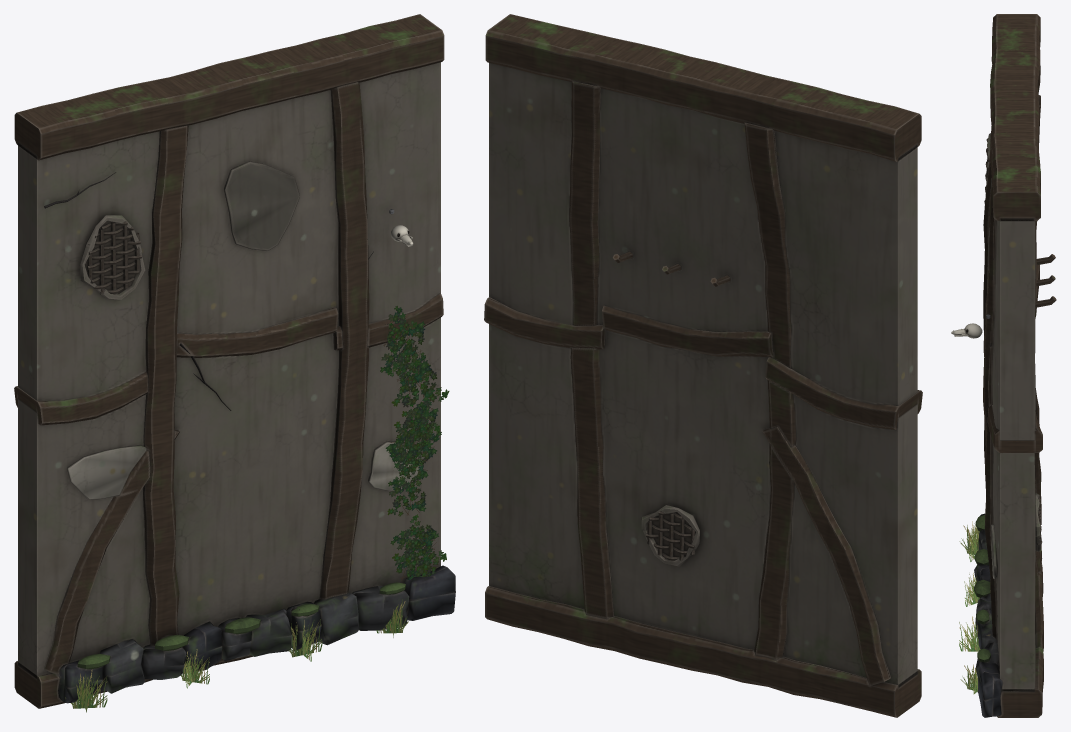
The model's file is HutWall.fbx.
The picture shows the model from 3 angles, left to right: view 1: azimuth 30°, elevation 25°; view 2: azimuth 150°, elevation 25°; view 3: azimuth 270°, elevation 25°; orthographic projection. The views are drawn at different scales.
Parts seen in each view (by area): view 1: HutWall_Main, HutWall_Leaves; view 2: HutWall_Main; view 3: HutWall_Main, HutWall_Leaves.
Boxes of the visible parts, x1,y1,x2,y2 form: HutWall_Main: (14, 14, 455, 708); HutWall_Leaves: (65, 306, 449, 712); HutWall_Main: (484, 14, 922, 717); HutWall_Main: (951, 14, 1056, 717); HutWall_Leaves: (959, 521, 980, 694).
Bounding box in the file's own units: 817 × 1104 × 200.
